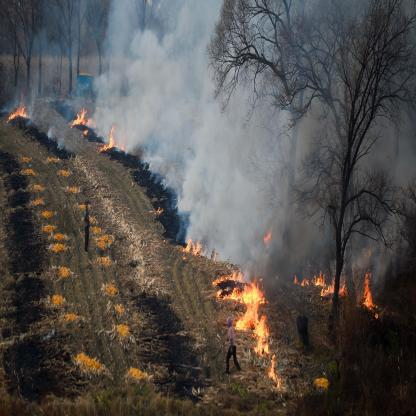fire: (213, 258, 305, 402), (287, 262, 391, 326), (72, 103, 134, 169), (153, 196, 204, 266), (1, 92, 39, 132), (262, 228, 276, 247)
smoke: (124, 0, 304, 239)
